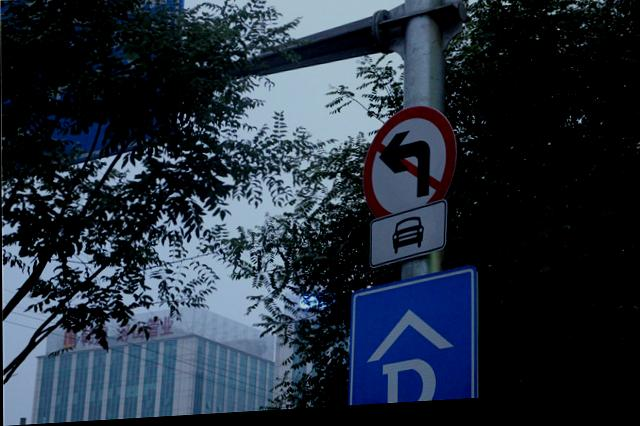not_turn_left: (361, 105, 457, 225)
